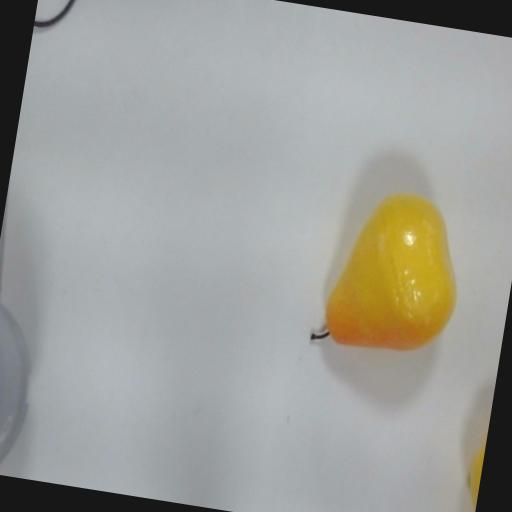Ripe: (306, 178, 472, 371), (460, 429, 486, 510)
